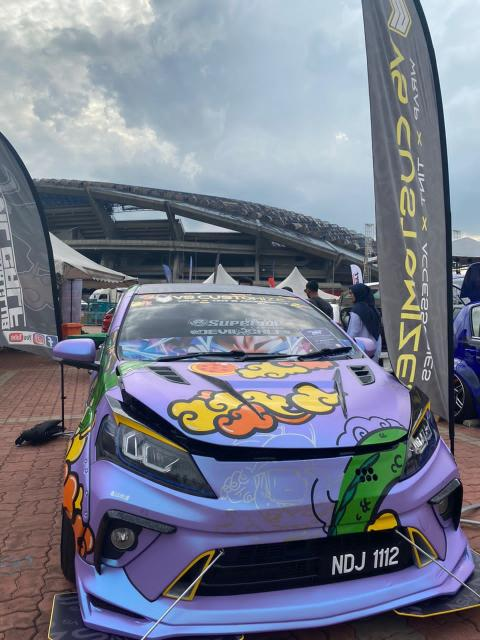License_Plate: (323, 540, 409, 584)
car: (58, 278, 480, 640)
